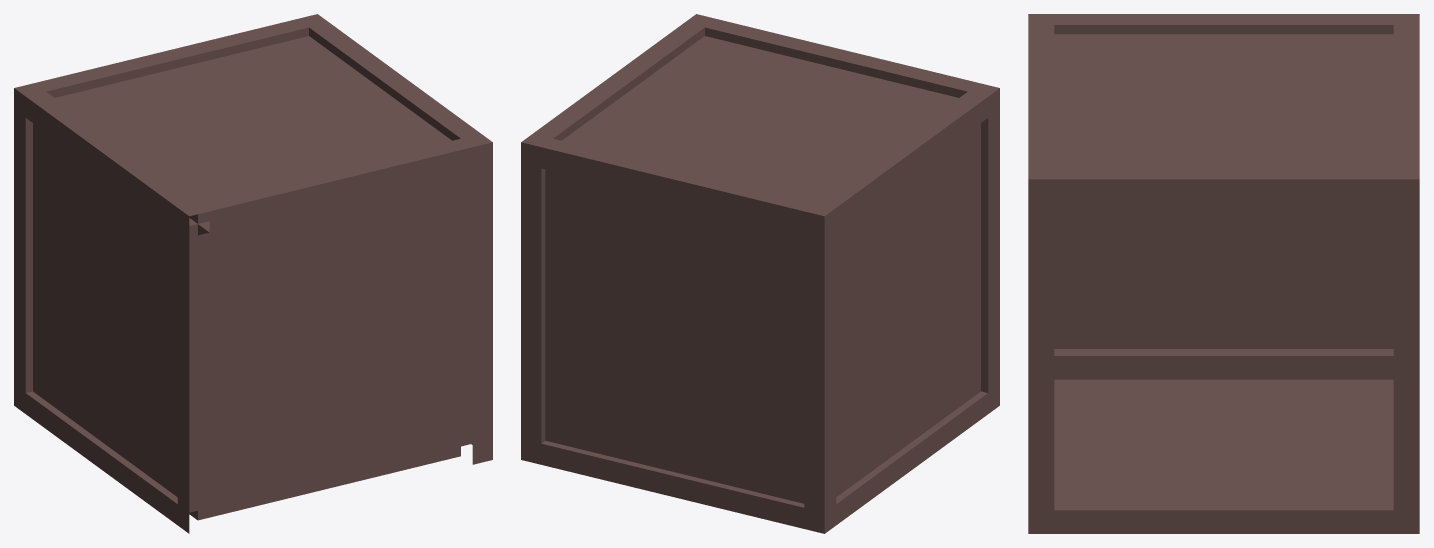
The model's file is grate.fbx.
3 views of the same model, side by side, from view 1: azimuth 30°, elevation 25°; view 2: azimuth 150°, elevation 25°; view 3: azimuth 270°, elevation 25° (orthographic). The views are drawn at different scales.
Parts seen in each view (by area): view 1: Platform.004; view 2: Platform.004; view 3: Platform.004.
Part boxes in pixels (x1=…): Platform.004: x1=14, y1=14, x2=492, y2=533; Platform.004: x1=521, y1=14, x2=999, y2=533; Platform.004: x1=1028, y1=14, x2=1419, y2=533.
Size of the model in its own units: 300 by 300 by 300.
